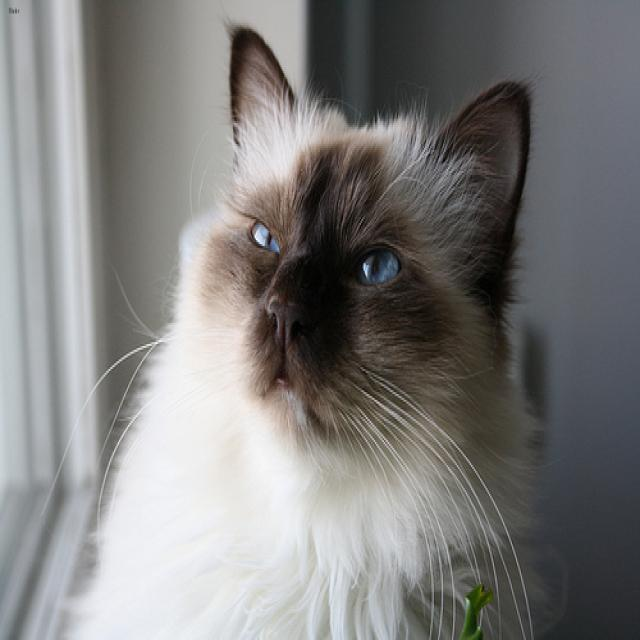Birman: (201, 23, 527, 461)
